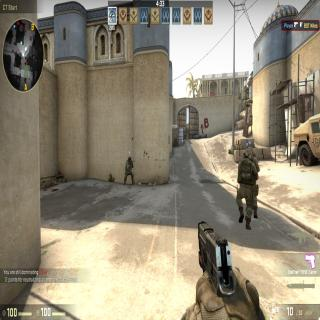CT-Body: (235, 149, 253, 229), (245, 144, 259, 219), (124, 156, 135, 186)
CT-Head: (242, 145, 255, 161), (127, 156, 132, 163)
